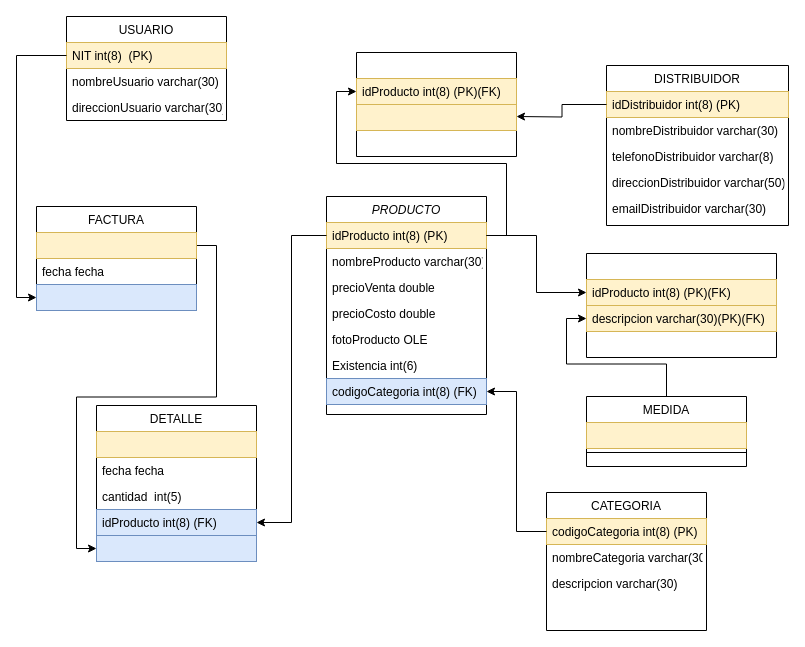
The diagram is 805 pixels wide and 647 high, and some of its shapes have lost their labels. The shapes that lost their labels are listed below. From the top down, each one's box as (x1, y1, x2, y2) in pixels, then its label:
(356, 52, 516, 156): PRODUCTO_DISTRIBUIDOR
(356, 104, 516, 130): idDistribuidor int(8) (PK)(FK)
(36, 232, 196, 258): noFactura int(8) (PK)
(36, 284, 196, 310): NIT int(8) (FK)
(586, 252, 776, 358): PRODUCTO_MEDIDA
(96, 430, 256, 458): noDetalle int(8) (PK)
(586, 422, 746, 448): descripcion varchar(30) (PK)
(96, 534, 256, 562): noFactura int(8) (FK)
